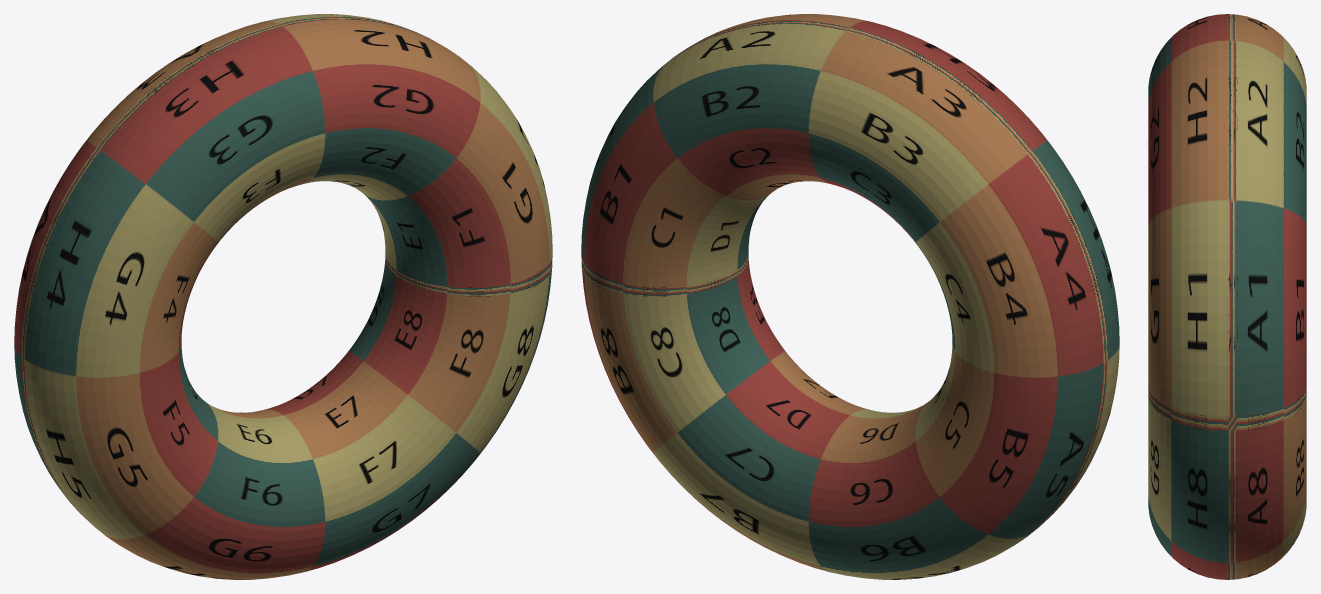
Rendered from texture_torus_R6_r8.glb.
3 views of the same model, side by side, from view 1: azimuth 30°, elevation 25°; view 2: azimuth 150°, elevation 25°; view 3: azimuth 270°, elevation 25° (orthographic). The views are drawn at different scales.
Parts seen in each view (by area): view 1: world; view 2: world; view 3: world.
Part boxes in pixels (x1,y1,x2,y2): world: (14,14,552,579); world: (581,14,1119,579); world: (1148,14,1306,579).
Size of the model in its own units: 32.44 by 32.44 by 9.09.
1 material, 1 textured.
